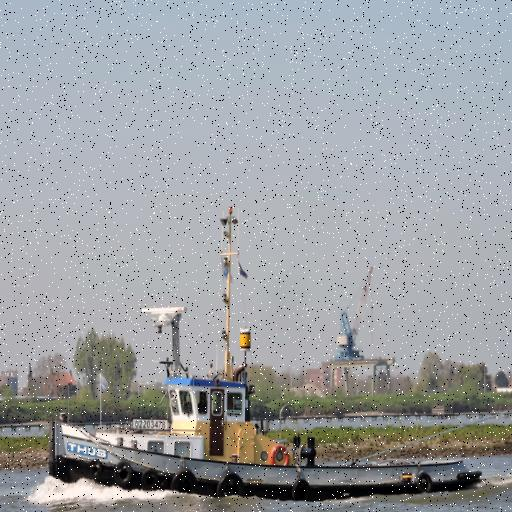tugboat: (45, 302, 488, 507)
